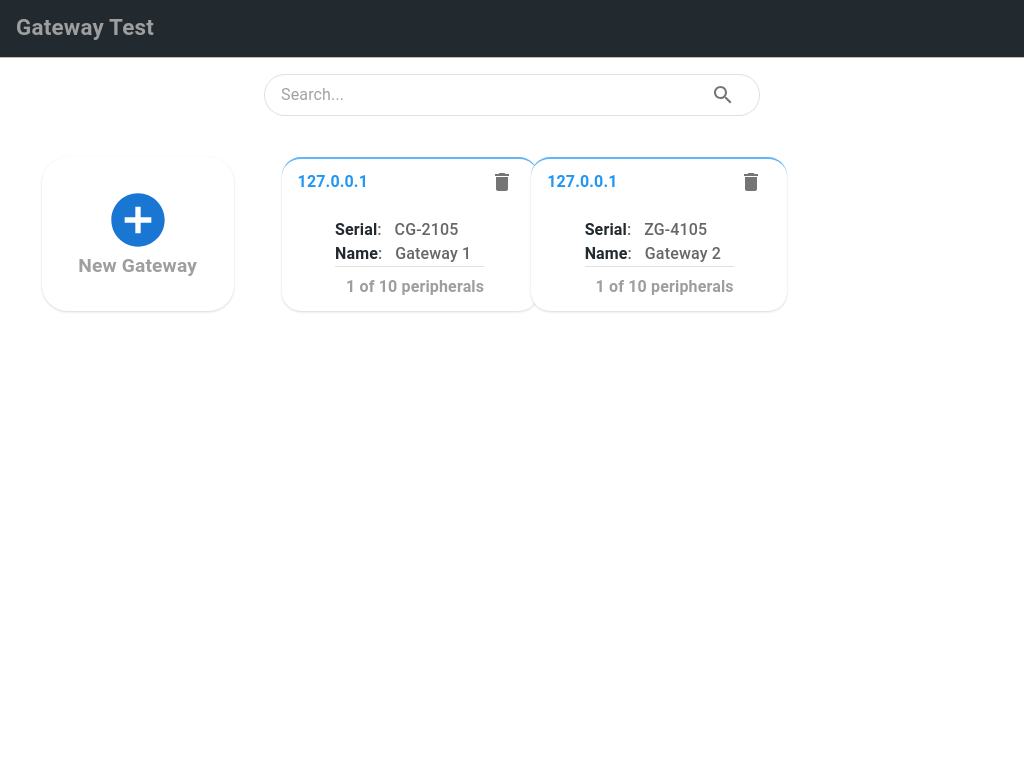
<Dashboard /> › Click Gateway Detail
Click the button with test id "123456". click: x=410, y=234
box: [282,157,538,311]
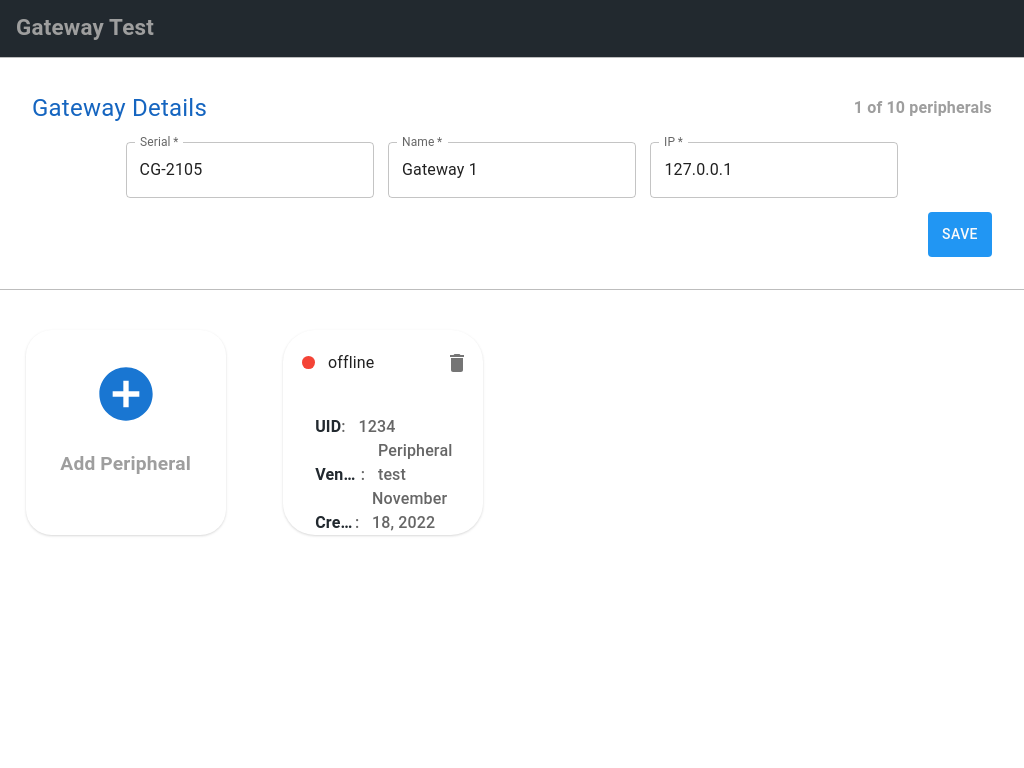
Expected: the text with test id "title" reads "Gateway Details", [32,94,207,122]
Expected: the form with test id "form" is shown, [32,142,992,257]
